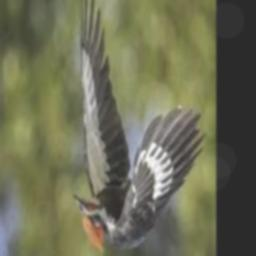Woodpecker: (74, 0, 206, 256)
